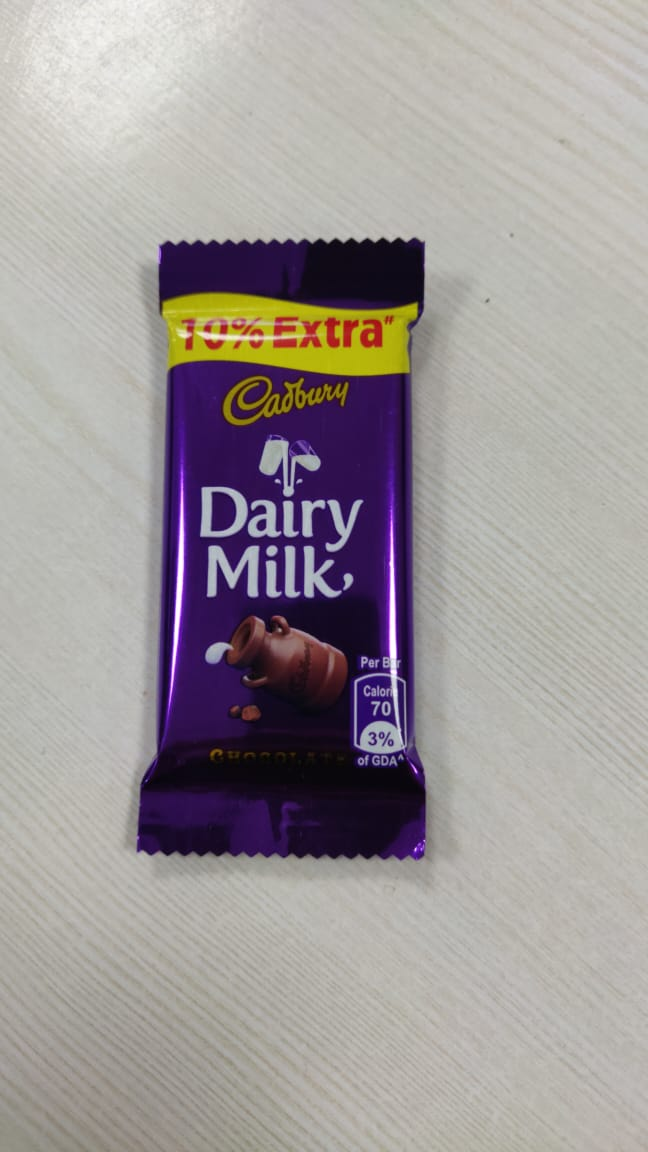dairy milk: (115, 207, 461, 897)
